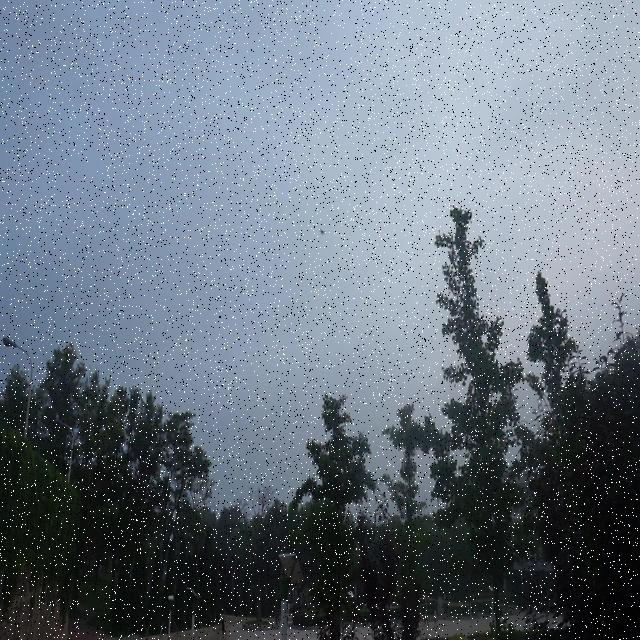UAV: (319, 228, 325, 235)
